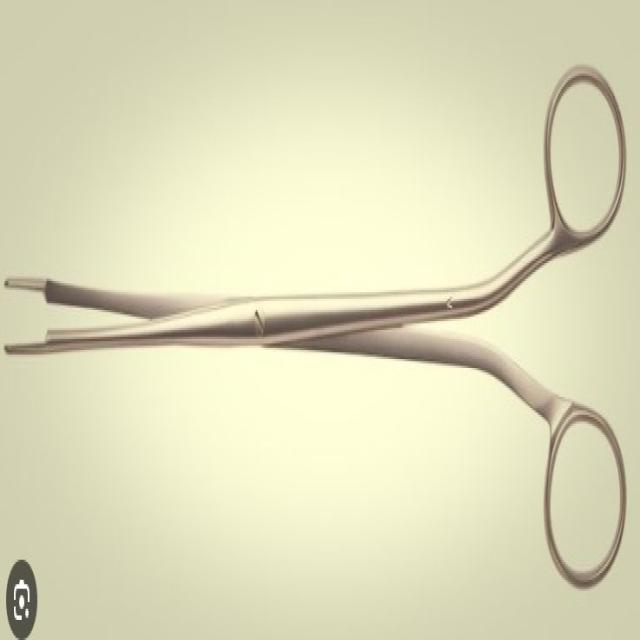Desjardin Forceps: (5, 65, 628, 606)
